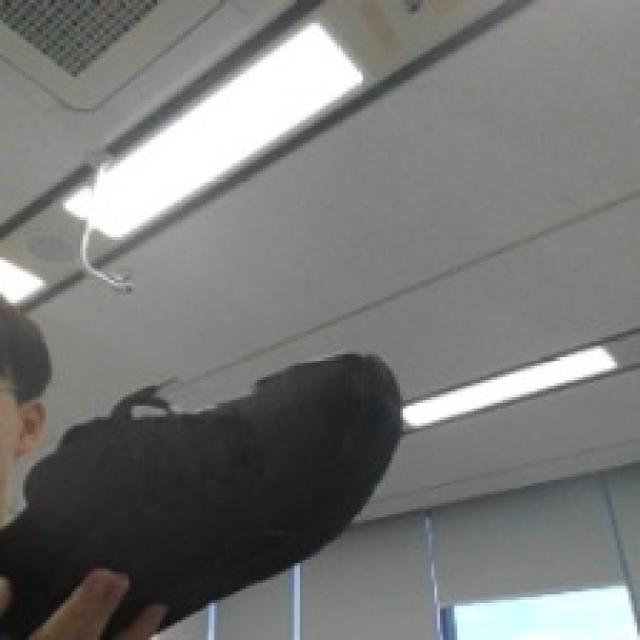shoes: (0, 354, 397, 640)
